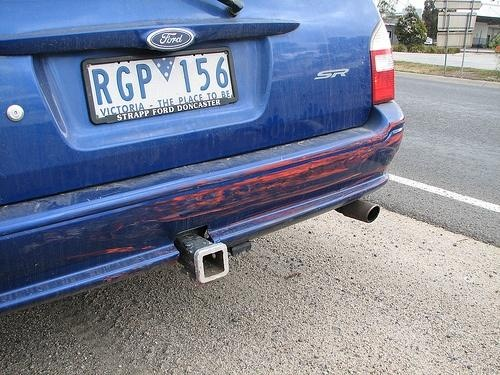car: (1, 1, 407, 315)
